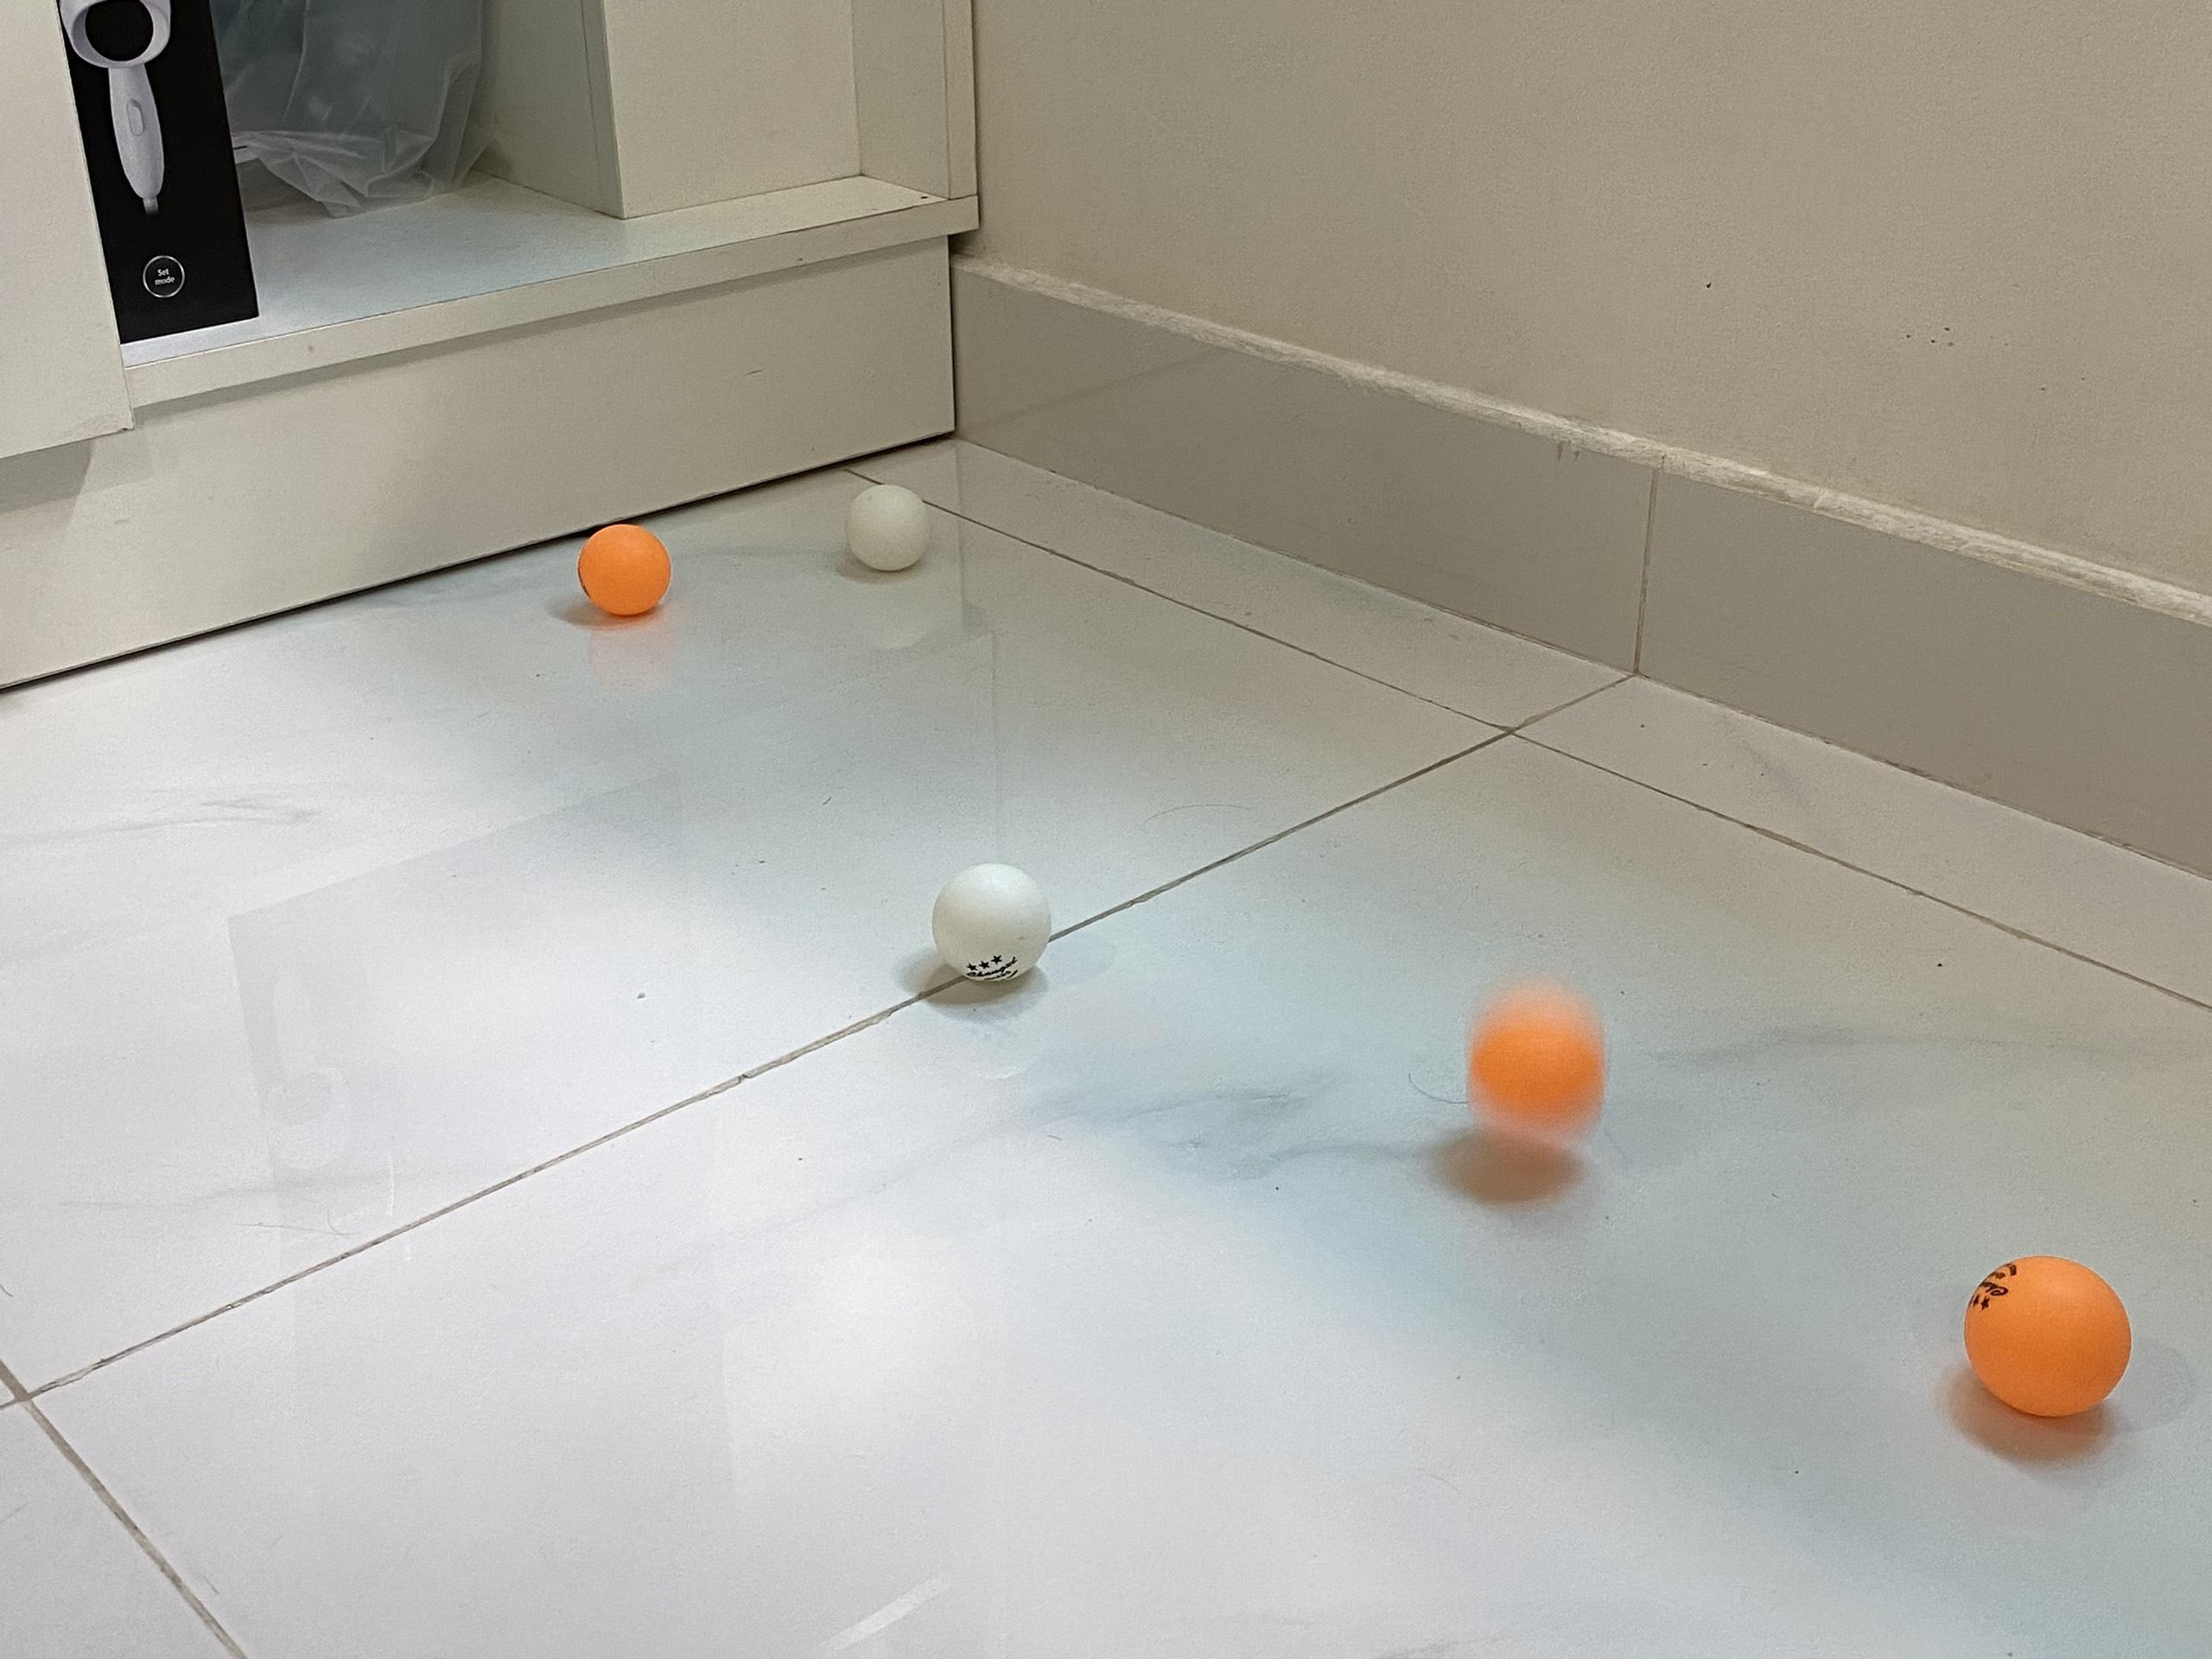oball: (1970, 1253, 2128, 1417), (1472, 992, 1613, 1152), (578, 523, 674, 613)
